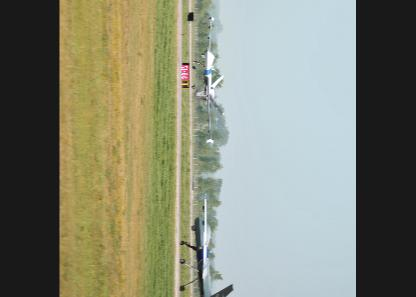MQ9: (180, 191, 235, 296), (193, 16, 224, 142)
